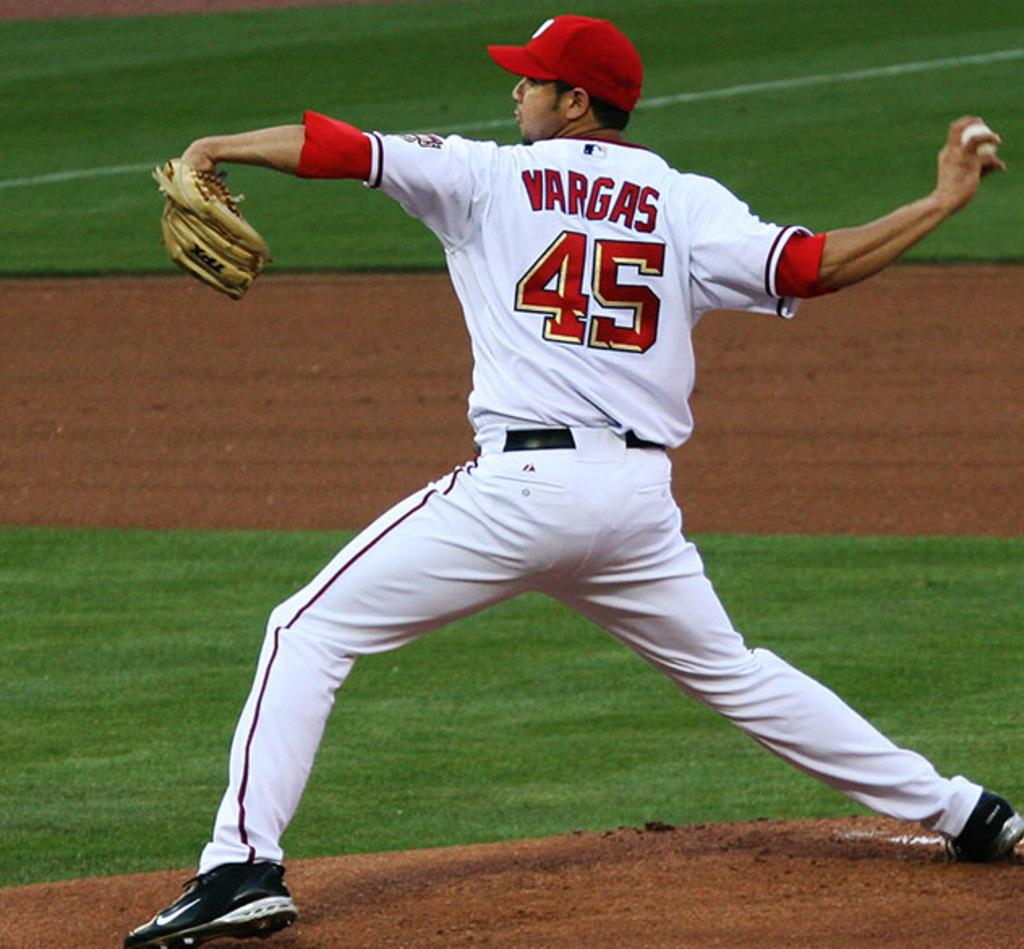Hat: (486, 13, 642, 104)
